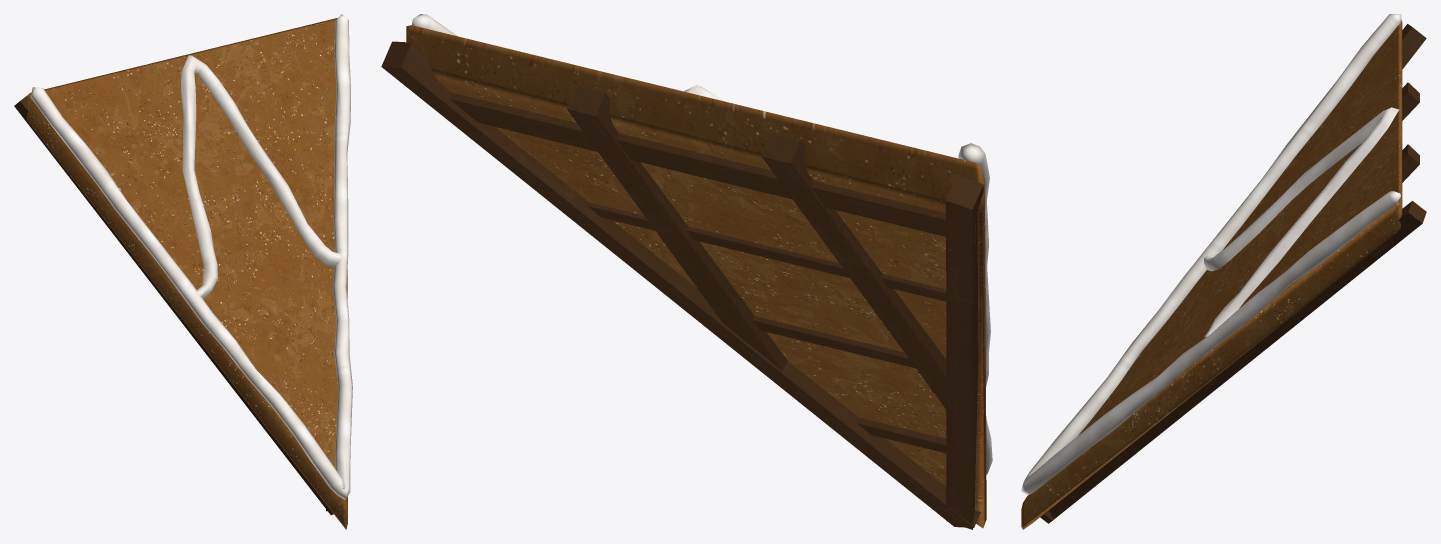
Rendered from roof.triangle.gingerbread.down.glb.
3 views of the same model, side by side, from view 1: azimuth 30°, elevation 25°; view 2: azimuth 150°, elevation 25°; view 3: azimuth 270°, elevation 25° (orthographic). The views are drawn at different scales.
Parts seen in each view (by area): view 1: roof.triangle.down_LOD0; view 2: roof.triangle.down_LOD0; view 3: roof.triangle.down_LOD0.
Part boxes in pixels (box(x1,y1,x2,y2)): roof.triangle.down_LOD0: box(14, 14, 352, 529); roof.triangle.down_LOD0: box(381, 14, 992, 529); roof.triangle.down_LOD0: box(1021, 14, 1426, 529).
Bounding box in the file's own units: 3.03 × 3.22 × 2.76.
Materials: 3 (3 with a texture image).
